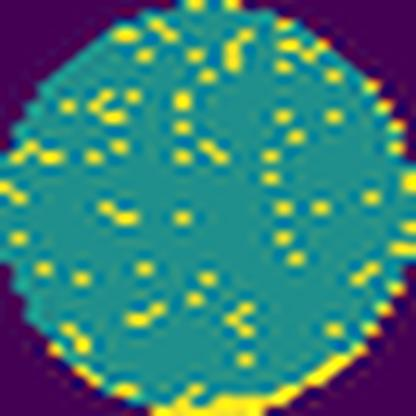Edge-Loc: (152, 340, 367, 416)
